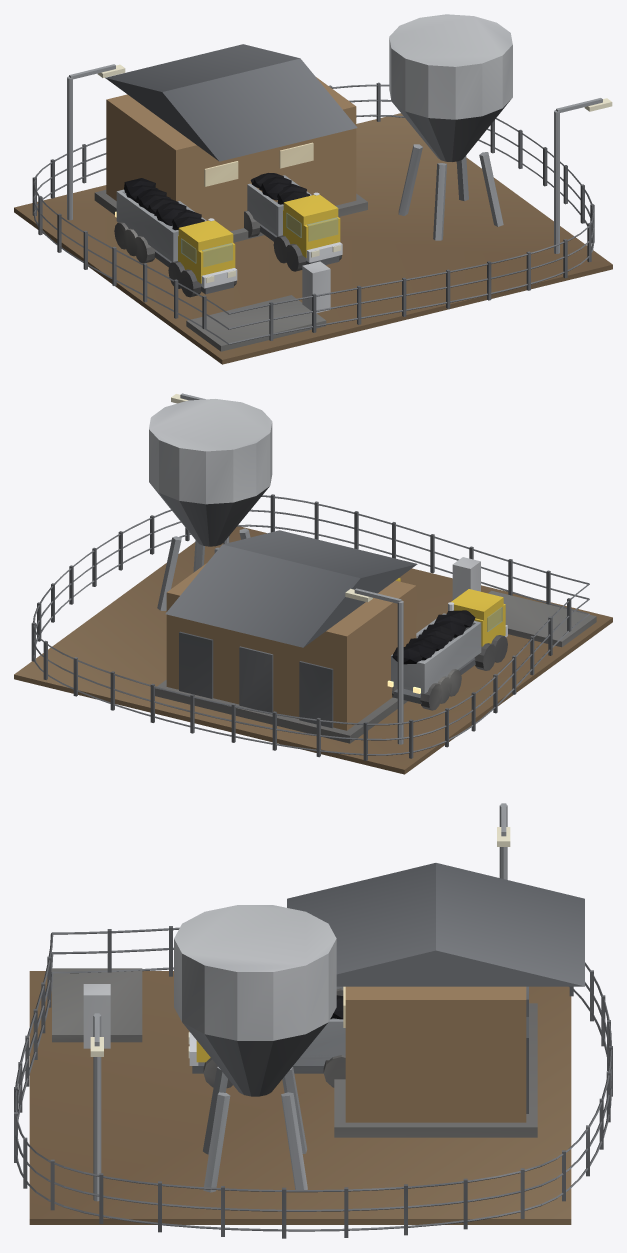
File: Haul_P1.fbx
The picture shows the model from 3 angles, top to bottom: view 1: azimuth 30°, elevation 25°; view 2: azimuth 150°, elevation 25°; view 3: azimuth 270°, elevation 25°; orthographic projection. The views are drawn at different scales.
Parts seen in each view (by area): view 1: Haul.Yard, Haul.Workshop, Haul.Hopper, Haul.Fence, Haul.Parked0, Haul.Parked1, Haul.Weighbridge, Haul.Lamp1, Haul.Lamp0; view 2: Haul.Workshop, Haul.Yard, Haul.Hopper, Haul.Fence, Haul.Parked0, Haul.Weighbridge, Haul.Lamp1; view 3: Haul.Yard, Haul.Workshop, Haul.Hopper, Haul.Fence, Haul.Weighbridge, Haul.Parked1, Haul.Lamp0, Haul.Lamp1.
Part boxes in pixels (<box>): Haul.Yard: <box>14,113,612,364</box>; Haul.Workshop: <box>94,44,367,242</box>; Haul.Hopper: <box>389,14,512,240</box>; Haul.Fence: <box>32,82,594,344</box>; Haul.Parked0: <box>114,178,237,297</box>; Haul.Parked1: <box>244,173,342,271</box>; Haul.Weighbridge: <box>186,261,330,351</box>; Haul.Lamp1: <box>67,64,125,220</box>; Haul.Lamp0: <box>554,98,612,253</box>; Haul.Workshop: <box>155,530,417,743</box>; Haul.Yard: <box>14,526,612,774</box>; Haul.Hopper: <box>149,399,272,610</box>; Haul.Fence: <box>31,494,589,760</box>; Haul.Parked0: <box>387,589,507,710</box>; Haul.Weighbridge: <box>452,557,596,647</box>; Haul.Lamp1: <box>345,588,403,744</box>; Haul.Yard: <box>29,971,571,1224</box>; Haul.Workshop: <box>287,863,584,1137</box>; Haul.Hopper: <box>174,905,336,1192</box>; Haul.Fence: <box>14,926,612,1238</box>; Haul.Weighbridge: <box>52,968,142,1048</box>; Haul.Parked1: <box>188,995,345,1088</box>; Haul.Lamp0: <box>90,1013,103,1201</box>; Haul.Lamp1: <box>497,803,510,879</box>.
Bounding box in the file's own units: 2895 × 1167 × 2653.
